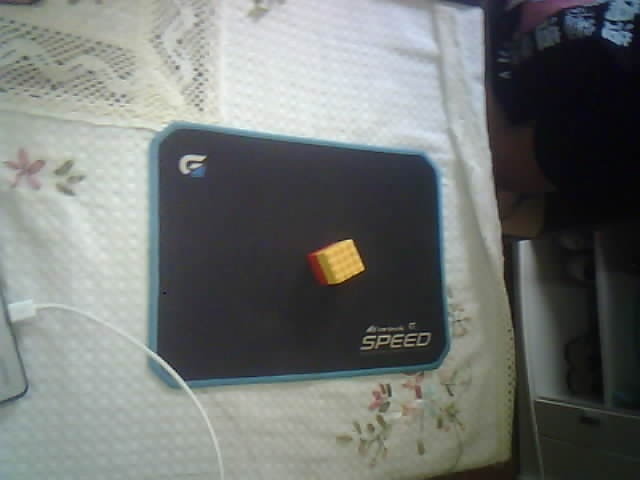lego: (306, 238, 366, 288)
